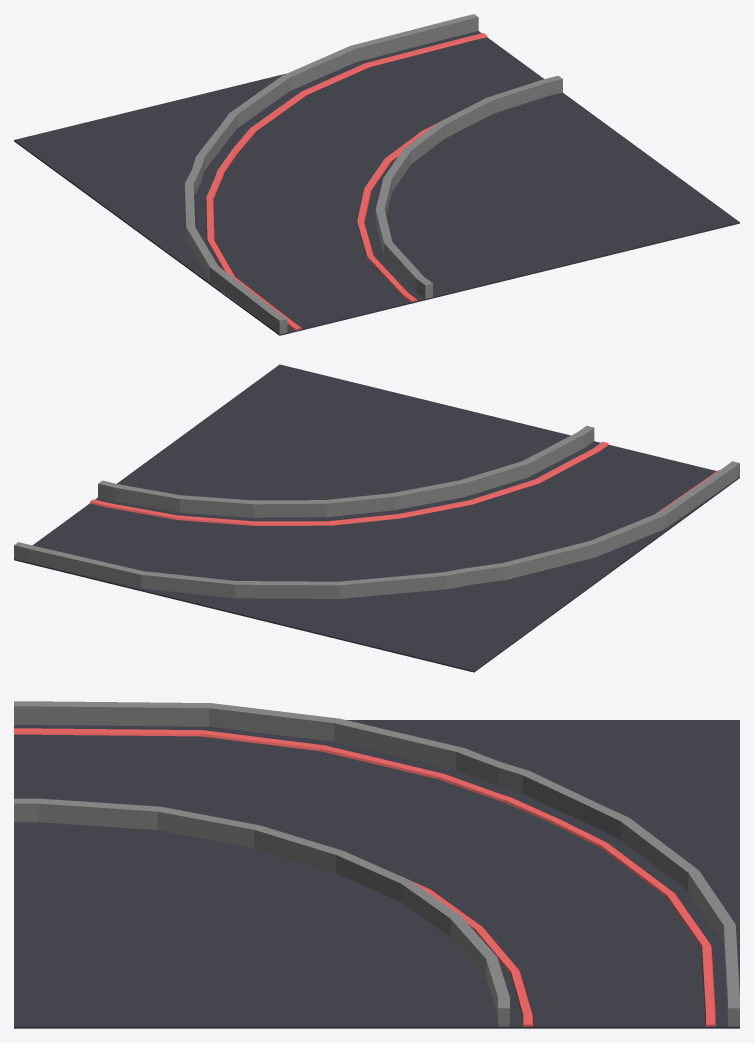
Rendered from 6x6_turn.glb.
3 views of the same model, one above another, from view 1: azimuth 30°, elevation 25°; view 2: azimuth 150°, elevation 25°; view 3: azimuth 270°, elevation 25° (orthographic). The views are drawn at different scales.
Parts seen in each view (by area): view 1: kartkids_base_trk_020_trn_90_l_1x1.077, kartkids_base_trk_020_trn_90_l_1x1.014, kartkids_base_trk_020_trn_90_l_1x1.045, kartkids_base_trk_020_trn_90_l_1x1.078, kartkids_base_trk_020_trn_90_l_1x1.046, kartkids_base_trk_020_trn_90_l_1x1.041, kartkids_base_trk_020_trn_90_l_1x1.081, kartkids_base_trk_020_trn_90_l_1x1.064; view 2: kartkids_base_trk_020_trn_90_l_1x1.077, kartkids_base_trk_020_trn_90_l_1x1.014, kartkids_base_trk_020_trn_90_l_1x1.045, kartkids_base_trk_020_trn_90_l_1x1.078, kartkids_base_trk_020_trn_90_l_1x1.041, kartkids_base_trk_020_trn_90_l_1x1.064; view 3: kartkids_base_trk_020_trn_90_l_1x1.077, kartkids_base_trk_020_trn_90_l_1x1.014, kartkids_base_trk_020_trn_90_l_1x1.078, kartkids_base_trk_020_trn_90_l_1x1.045, kartkids_base_trk_020_trn_90_l_1x1.081, kartkids_base_trk_020_trn_90_l_1x1.046, kartkids_base_trk_020_trn_90_l_1x1.064, kartkids_base_trk_020_trn_90_l_1x1.041.
Boxes of the visible parts, x1,y1,x2,y2 form: kartkids_base_trk_020_trn_90_l_1x1.077: [14, 31, 739, 335]; kartkids_base_trk_020_trn_90_l_1x1.014: [375, 75, 562, 298]; kartkids_base_trk_020_trn_90_l_1x1.045: [219, 14, 478, 143]; kartkids_base_trk_020_trn_90_l_1x1.078: [185, 167, 287, 334]; kartkids_base_trk_020_trn_90_l_1x1.046: [233, 33, 486, 153]; kartkids_base_trk_020_trn_90_l_1x1.041: [356, 123, 436, 302]; kartkids_base_trk_020_trn_90_l_1x1.081: [205, 174, 301, 330]; kartkids_base_trk_020_trn_90_l_1x1.064: [192, 127, 224, 179]; kartkids_base_trk_020_trn_90_l_1x1.077: [14, 364, 739, 672]; kartkids_base_trk_020_trn_90_l_1x1.014: [98, 425, 594, 517]; kartkids_base_trk_020_trn_90_l_1x1.045: [14, 542, 377, 598]; kartkids_base_trk_020_trn_90_l_1x1.078: [464, 461, 739, 584]; kartkids_base_trk_020_trn_90_l_1x1.041: [89, 441, 608, 525]; kartkids_base_trk_020_trn_90_l_1x1.064: [372, 568, 473, 595]; kartkids_base_trk_020_trn_90_l_1x1.077: [14, 720, 739, 1028]; kartkids_base_trk_020_trn_90_l_1x1.014: [14, 798, 509, 1026]; kartkids_base_trk_020_trn_90_l_1x1.078: [14, 701, 497, 785]; kartkids_base_trk_020_trn_90_l_1x1.045: [583, 803, 739, 1026]; kartkids_base_trk_020_trn_90_l_1x1.081: [14, 728, 497, 800]; kartkids_base_trk_020_trn_90_l_1x1.046: [549, 820, 715, 1026]; kartkids_base_trk_020_trn_90_l_1x1.064: [498, 761, 597, 821]; kartkids_base_trk_020_trn_90_l_1x1.041: [412, 881, 532, 1026].
Size of the model in its own units: 30 by 0.9339 by 30.
